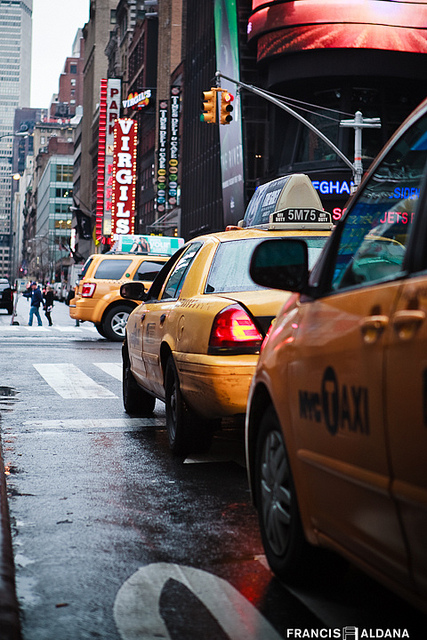Car: (69, 249, 140, 343)
Traffic light: (214, 88, 234, 126), (195, 88, 214, 126)
